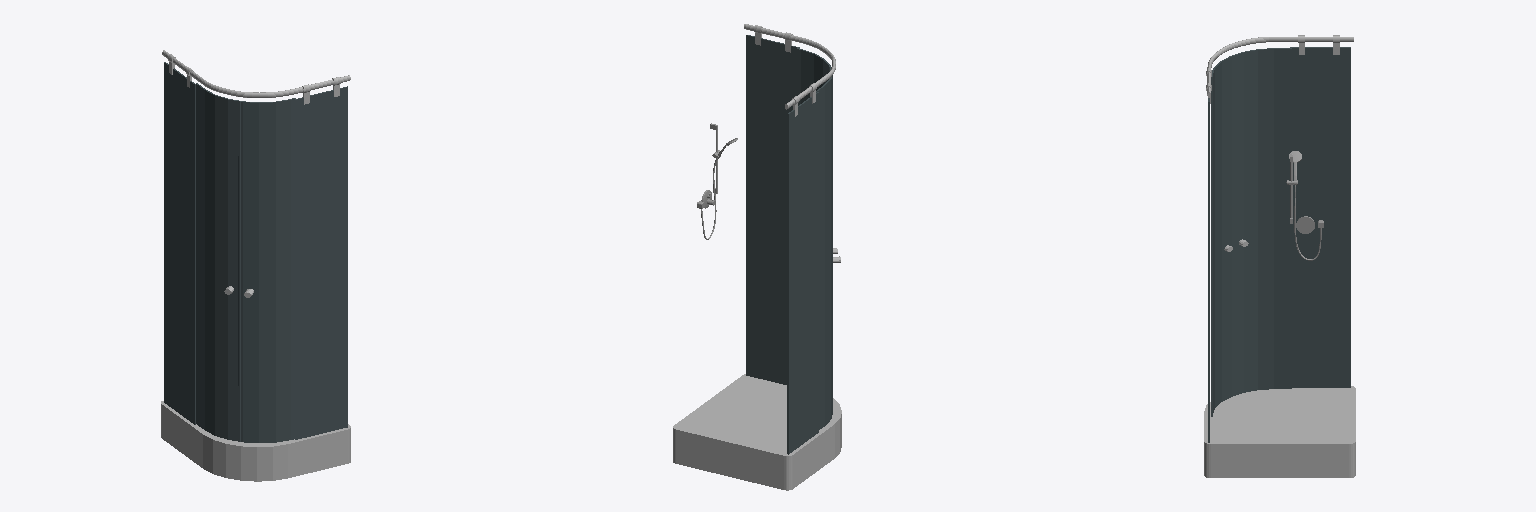
Rendered from Shower.obj.
The picture shows the model from 3 angles: view 1: azimuth 30°, elevation 25°; view 2: azimuth 150°, elevation 25°; view 3: azimuth 270°, elevation 25°; orthographic projection.
Parts seen in each view (by area): view 1: g, Object01, Object02, Object08, Loft05; view 2: Object01, Object08, Object02, g, Loft05; view 3: g, Object02, Object08, Loft05, Object01.
Boxes of the visible parts, <box> form: g: <box>196,83,295,442</box>; Object01: <box>295,86,347,439</box>; Object02: <box>164,62,195,424</box>; Object08: <box>161,401,350,481</box>; Loft05: <box>162,50,350,97</box>; Object01: <box>746,35,799,384</box>; Object08: <box>673,374,841,490</box>; Object02: <box>787,92,818,454</box>; g: <box>797,48,832,429</box>; Loft05: <box>744,24,835,109</box>; g: <box>1211,48,1291,416</box>; Object02: <box>1290,47,1350,387</box>; Object08: <box>1204,386,1355,477</box>; Loft05: <box>1207,37,1353,97</box>; Object01: <box>1208,98,1209,442</box>.
Size of the model in its own units: 12.36 by 38.26 by 13.6.